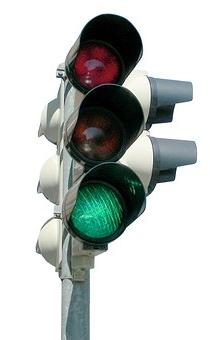trafic: (69, 19, 136, 240)
